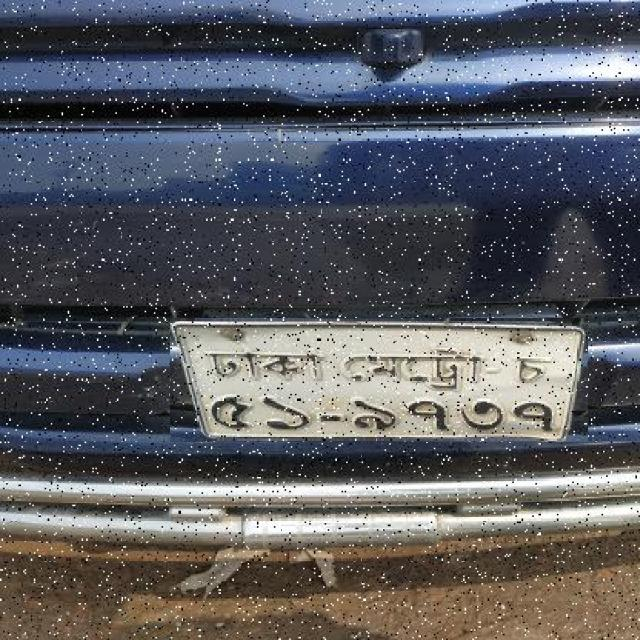numberplate: (170, 318, 588, 442)
